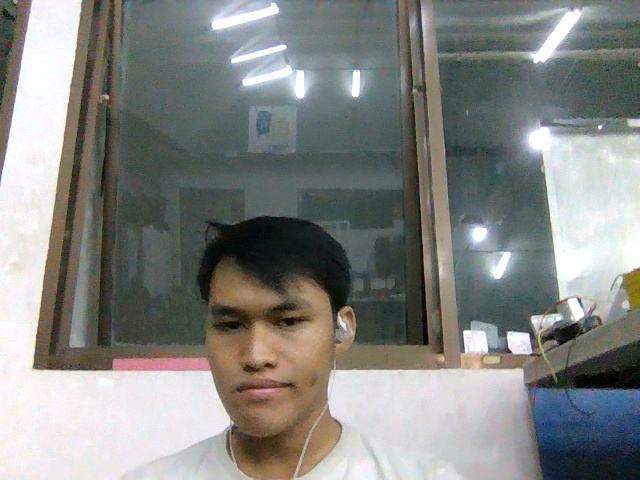mask_off: (204, 356, 330, 437)
